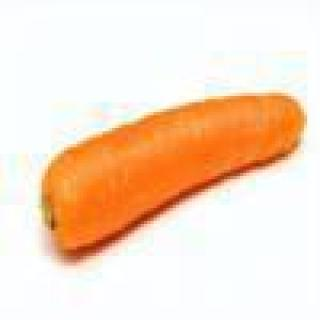Wortel: (14, 78, 305, 260)
